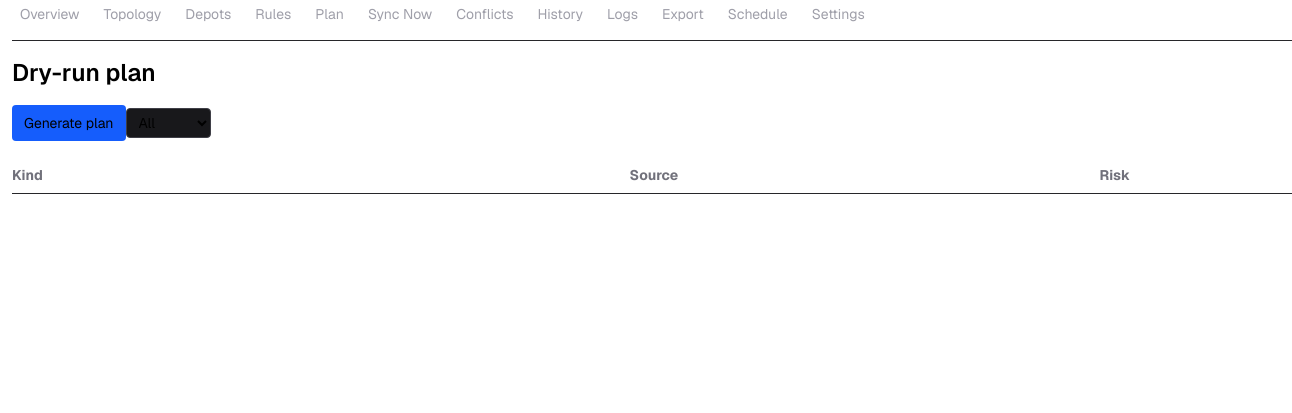
Test case: PlanViewClient [IMPL-MESH_GUI] › user_can_filter_operations_by_type
Click the button with test id "generate-plan-btn": (69, 123) [12, 105, 126, 141]
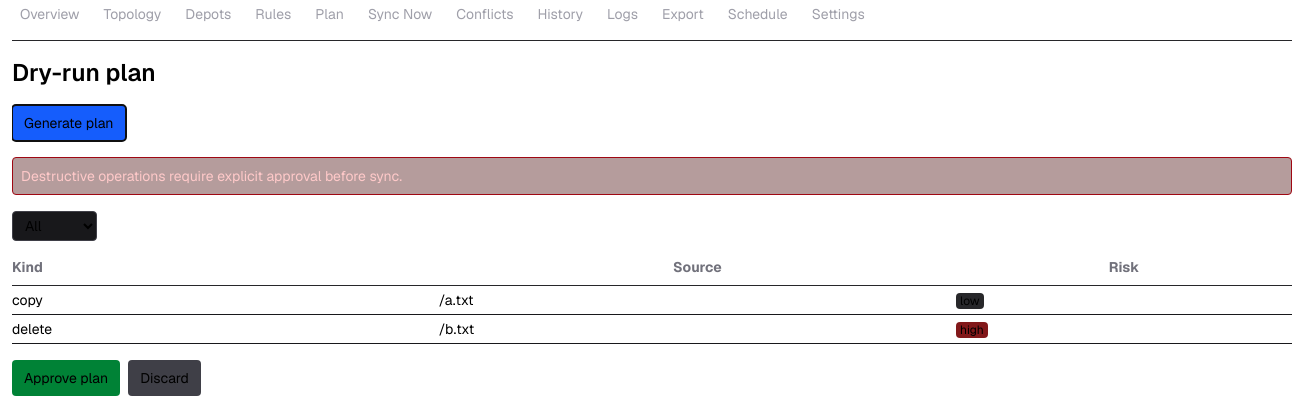
Select "Copy" in the dropdown with test id "operation-filter": (54, 226) [12, 211, 97, 241]
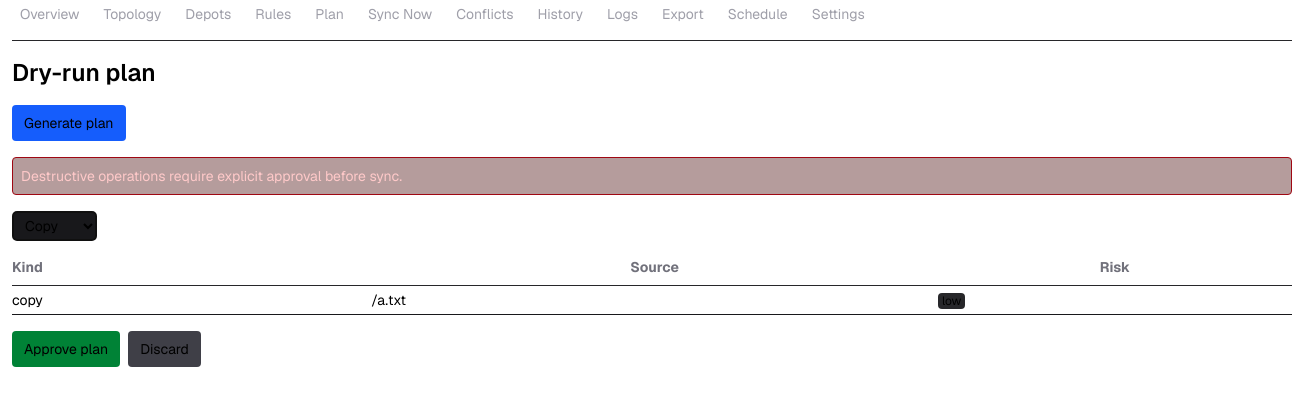
expect the table with test id "change-set-table" shows "copy": met, box [12, 291, 43, 309]
expect the table with test id "change-set-table" no longer shows "delete": met, box [12, 249, 1291, 315]
